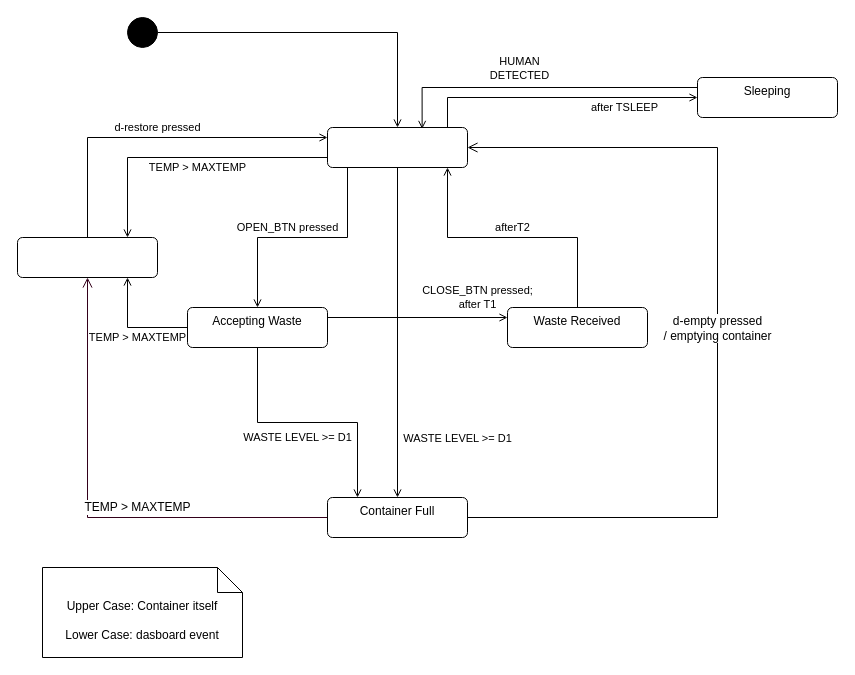
The diagram is 855 pixels wide and 675 high, and some of its shapes have lost their labels. The shapes that lost their labels are listed below. From the top down, each one's centre as x and y in pixels, then its label:
At pixel 397 147: "Available".
At pixel 87 257: "Over-Heating".
